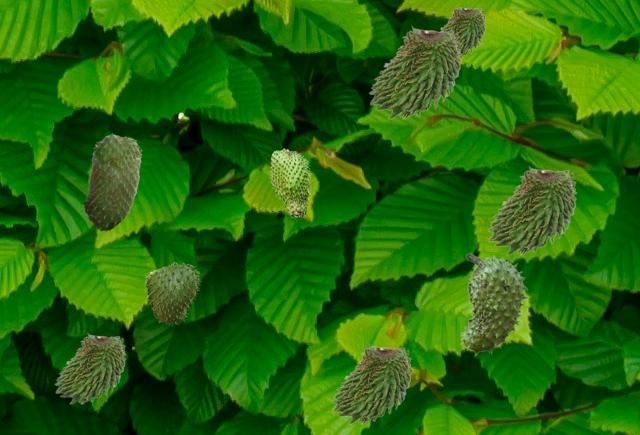guyabano: (368, 25, 461, 118), (487, 165, 576, 254), (459, 253, 529, 355), (331, 343, 411, 423), (83, 133, 141, 231), (54, 332, 125, 403), (145, 262, 200, 325), (269, 148, 311, 219), (439, 5, 485, 58)
